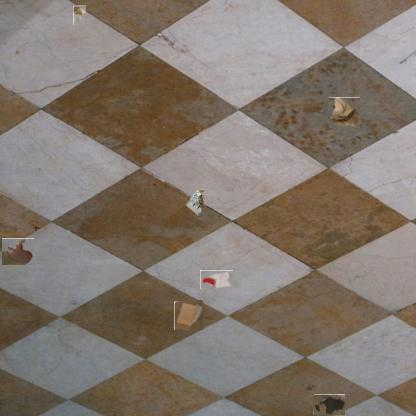dirty: (328, 97, 360, 128), (174, 300, 203, 330), (184, 188, 206, 218), (200, 270, 233, 289), (73, 5, 86, 26)
liquid: (2, 238, 34, 265), (313, 394, 345, 415)
